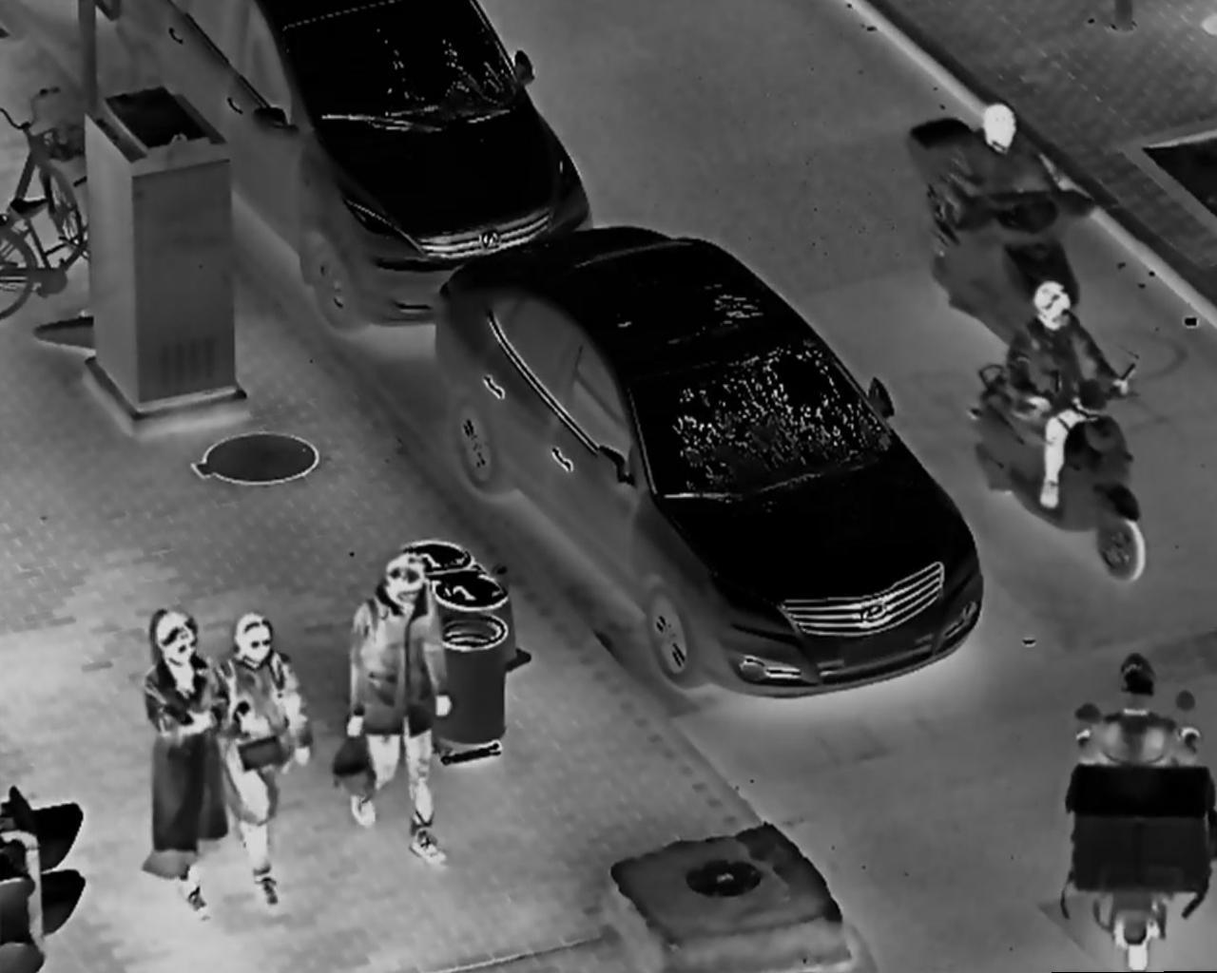person: (338, 556, 454, 870), (937, 99, 1072, 345), (1071, 651, 1205, 889), (217, 612, 319, 911), (131, 602, 227, 919), (1003, 277, 1117, 519)
